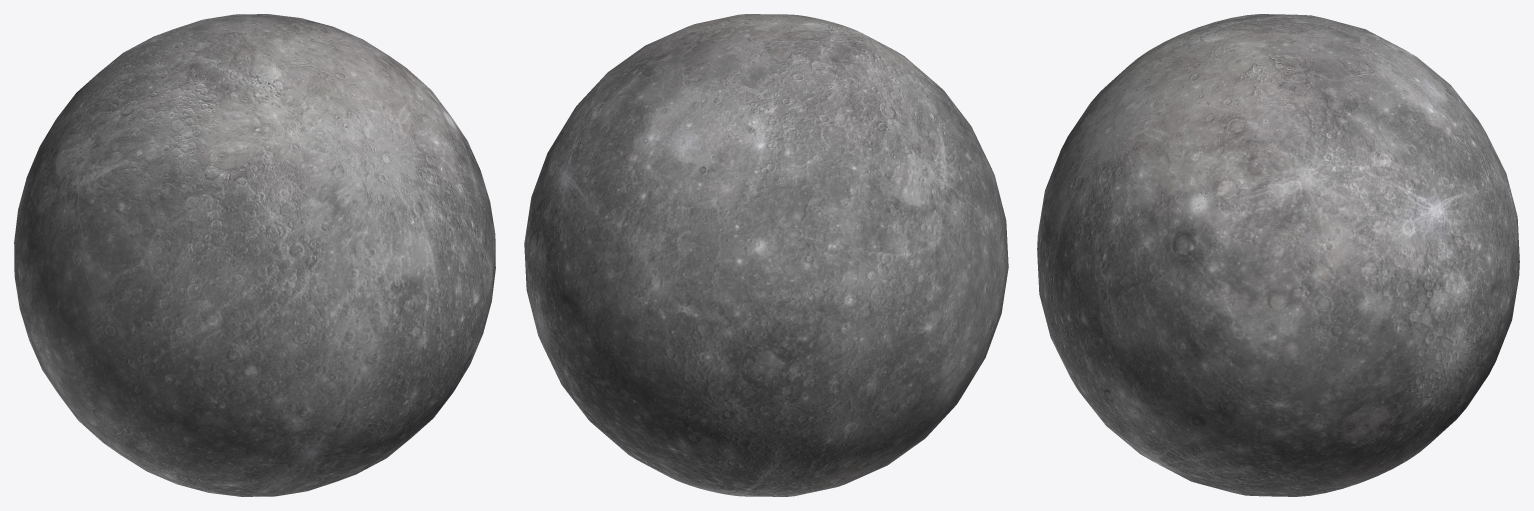
Rendered from mercure.obj.
3 renders of one model, left to right at view 1: azimuth 30°, elevation 25°; view 2: azimuth 150°, elevation 25°; view 3: azimuth 270°, elevation 25°, orthographic.
Parts seen in each view (by area): view 1: Mercury.003; view 2: Mercury.003; view 3: Mercury.003.
Part boxes in pixels (x1,y1,x2,y2): Mercury.003: (14, 14, 495, 496); Mercury.003: (524, 14, 1008, 496); Mercury.003: (1037, 14, 1519, 496).
Size of the model in its own units: 1.83 by 1.84 by 1.84.
